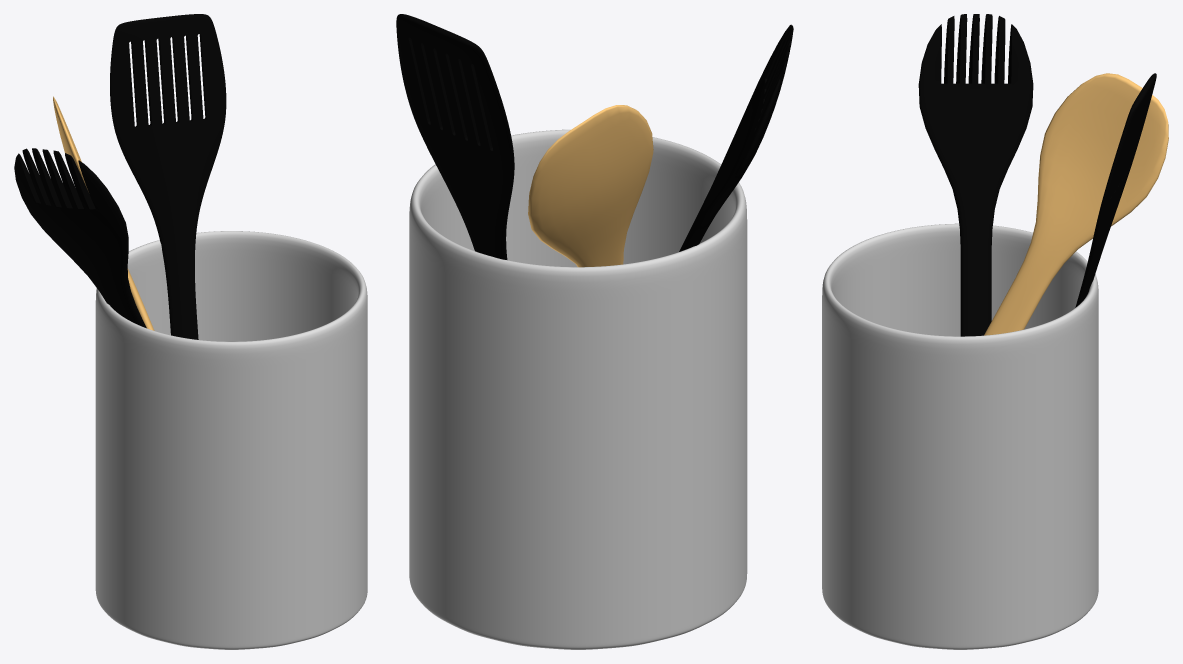
The model's file is Model_Kitchen_WoodenSpoons.fbx.
3 views of the same model, side by side, from view 1: azimuth 30°, elevation 25°; view 2: azimuth 150°, elevation 25°; view 3: azimuth 270°, elevation 25° (orthographic). The views are drawn at different scales.
Visible parts, largest first — view 1: WoodenUtensil3; view 2: WoodenUtensil3; view 3: WoodenUtensil3.
Part boxes in pixels (x1,y1,x2,y2): WoodenUtensil3: (14,14,367,649); WoodenUtensil3: (396,14,793,649); WoodenUtensil3: (822,14,1168,649).
Bounding box in the file's own units: 25.21 × 40.23 × 24.33.
